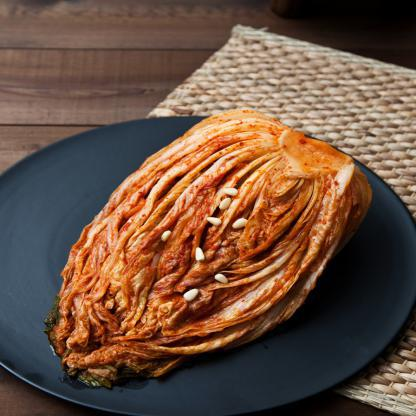kimchi: (13, 95, 380, 392)
